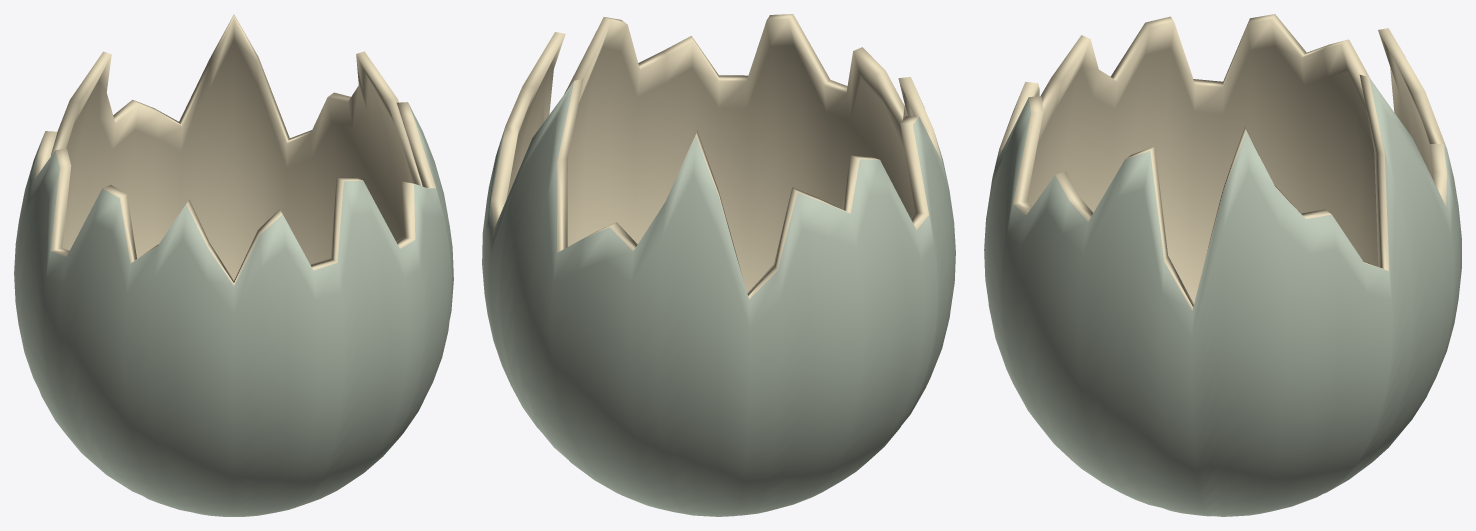
File: hatched.glb
3 renders of one model, left to right at view 1: azimuth 30°, elevation 25°; view 2: azimuth 150°, elevation 25°; view 3: azimuth 270°, elevation 25°, orthographic. The views are drawn at different scales.
Visible parts, largest first — view 1: hatched; view 2: hatched; view 3: hatched.
Boxes of the visible parts, <box> form: hatched: <box>14,14,453,516</box>; hatched: <box>482,14,955,516</box>; hatched: <box>984,14,1461,516</box>.
Bounding box in the file's own units: 2.02 × 2.11 × 2.02.
